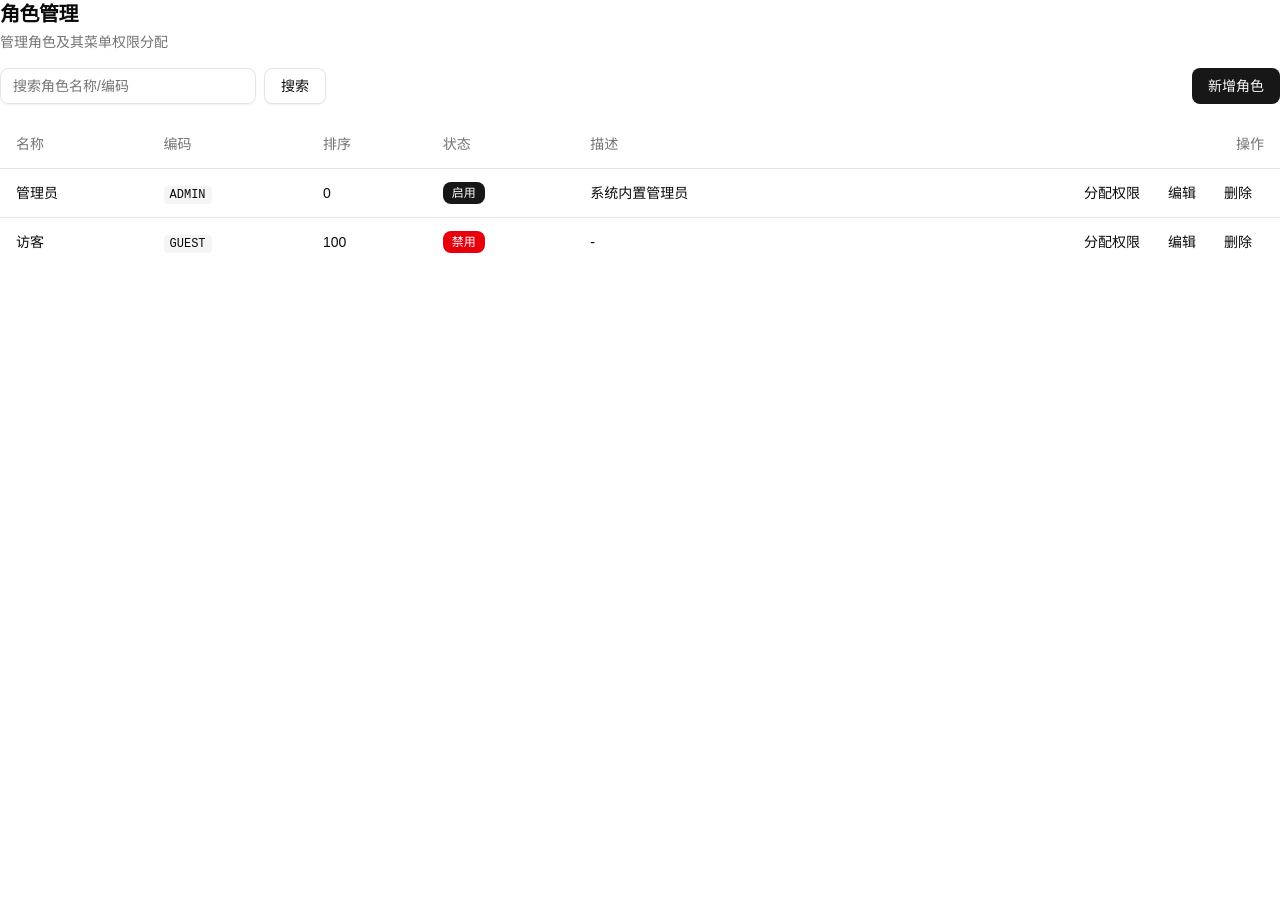
Test: RolePage › 树形勾选联动：取消父节点级联取消全部后代
Expected: the text "管理员" is shown, [0,168,148,217]
Click the button "分配权限" in the row of "ADMIN".
click(1112, 192)  # box [1072,176,1152,208]
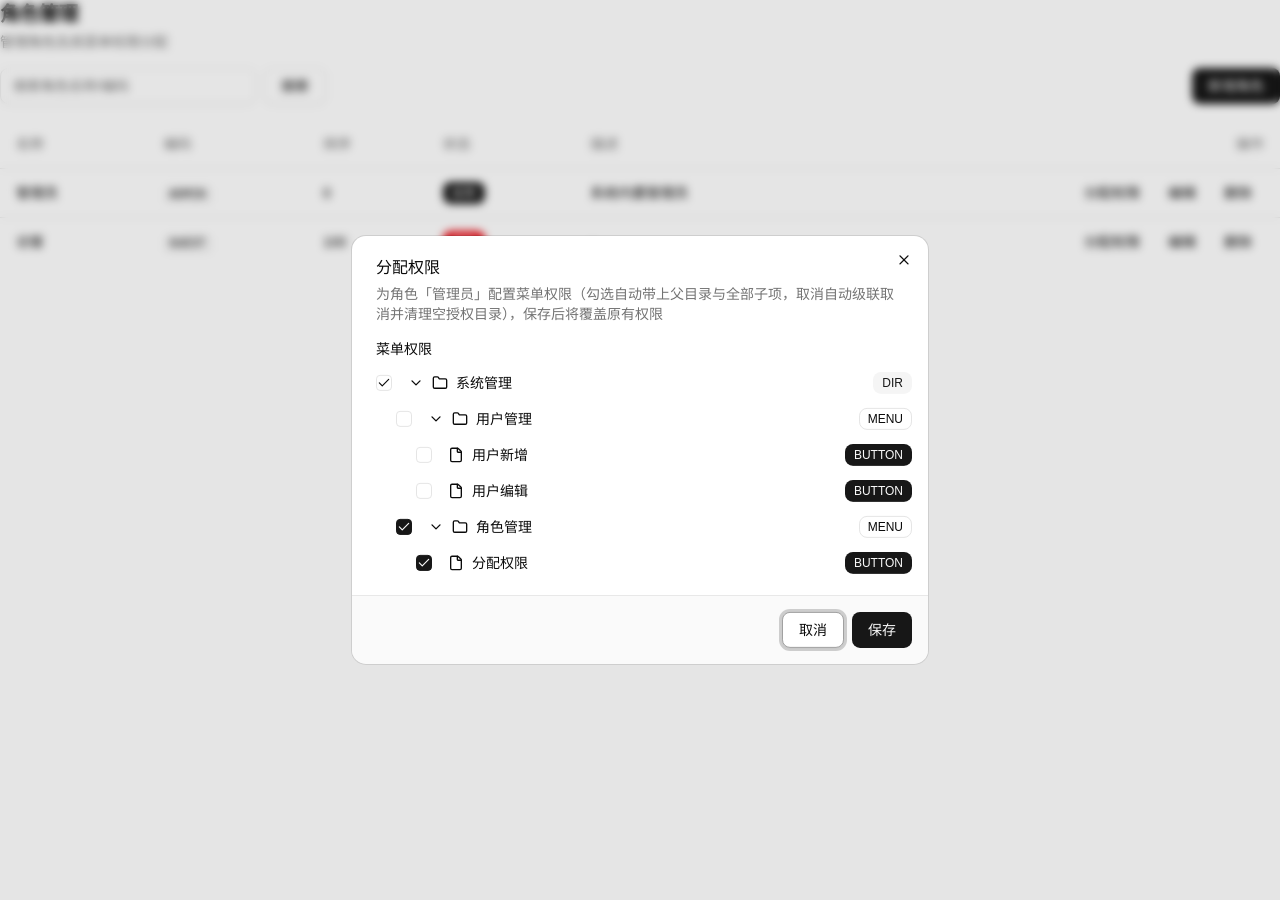
Now the checkbox named "角色管理" is checked
Now the checkbox named "分配权限" is checked, box [416,555,432,571]
Click the checkbox named "角色管理".
click(404, 527)  # box [396,519,412,535]
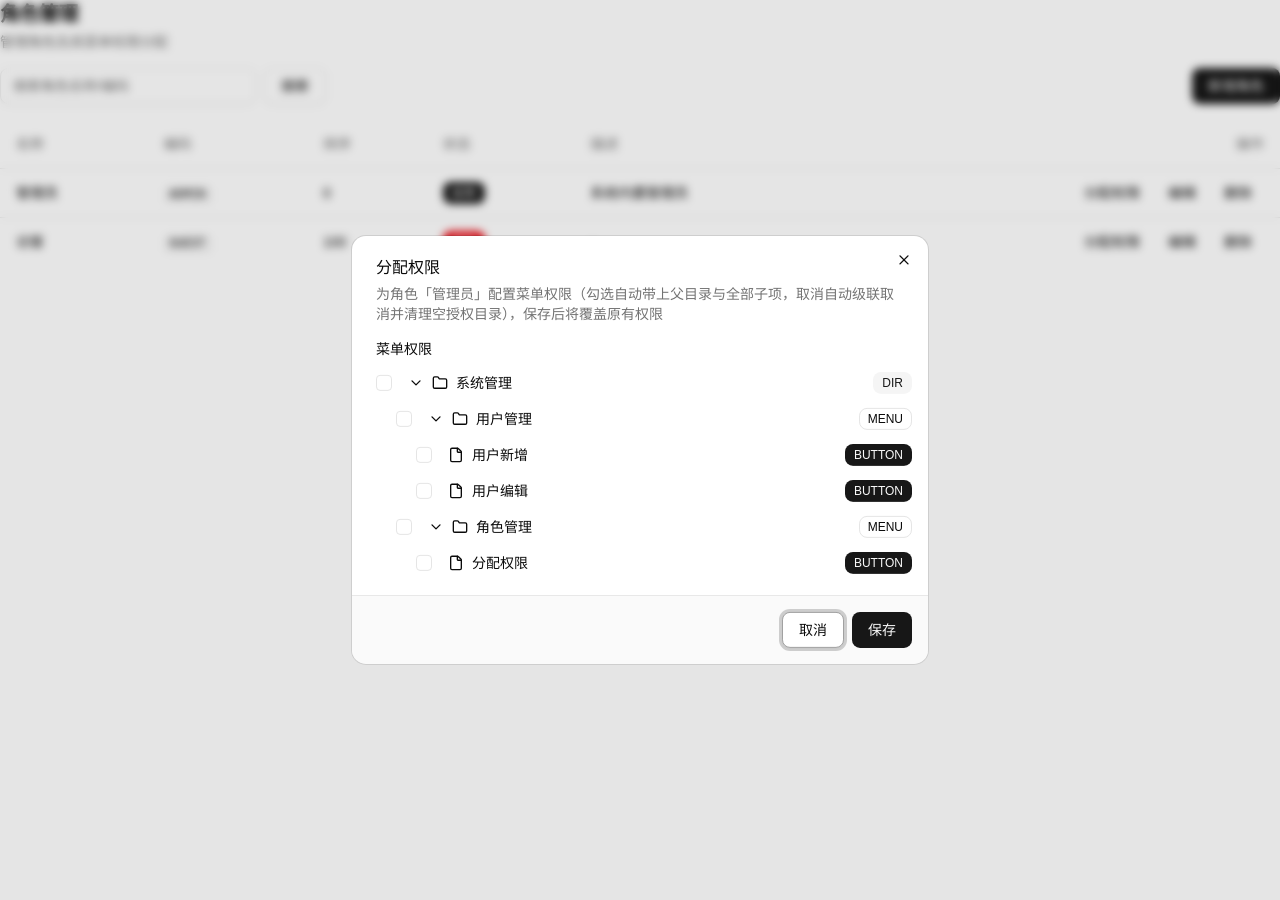
Now the checkbox named "角色管理" is not checked, box [396,519,412,535]
Now the checkbox named "分配权限" is not checked, box [416,555,432,571]
Now the checkbox named "系统管理" is not checked, box [376,375,392,391]
